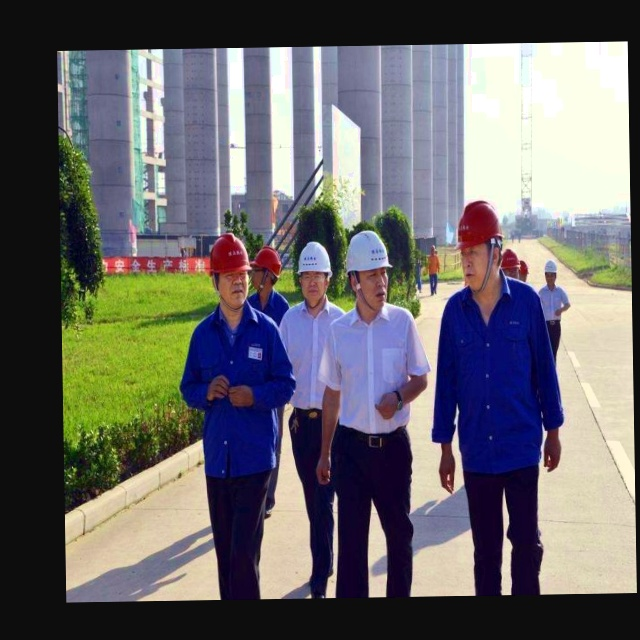Con_Casco: (345, 229, 393, 313), (210, 233, 251, 309), (297, 241, 332, 306)
Sin_Chaleco: (195, 309, 280, 469), (333, 304, 417, 431)
